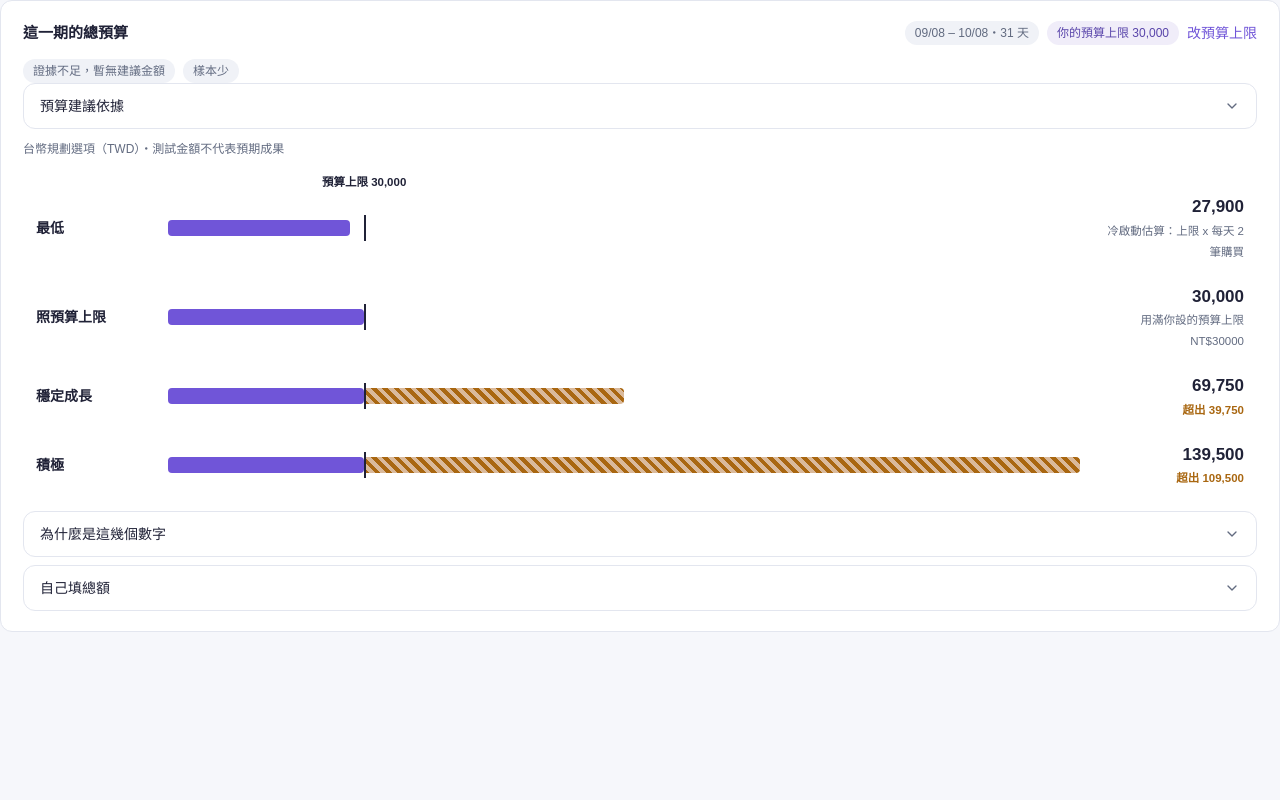
Test: BudgetScenarios › prints served insufficient_evidence without reclassifying a nullable recommendation
Expected: the text "證據不足，暫無建議金額" is shown, [23,59,175,83]
Click the button "預算建議依據".
click(82, 106)  # box [24,84,1256,128]
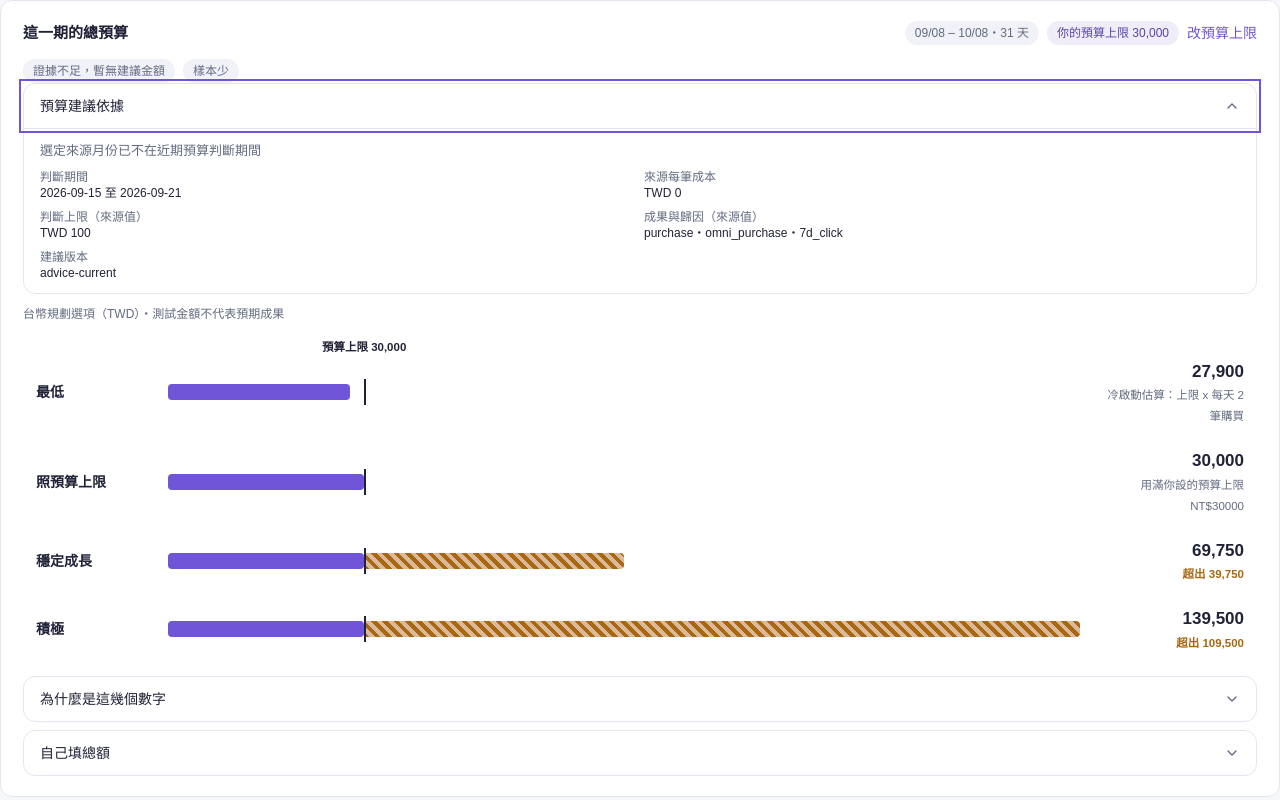
Now the list item "選定來源月份已不在近期預算判斷期間" is shown, box [40,143,261,158]
Now the text "TWD 0" is shown, box [644,186,681,200]
Now the text "advice-current" is shown, box [40,266,116,280]
